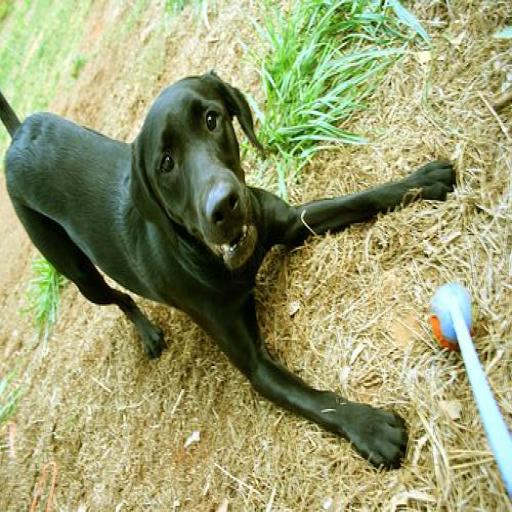dog_face: (134, 76, 261, 253)
